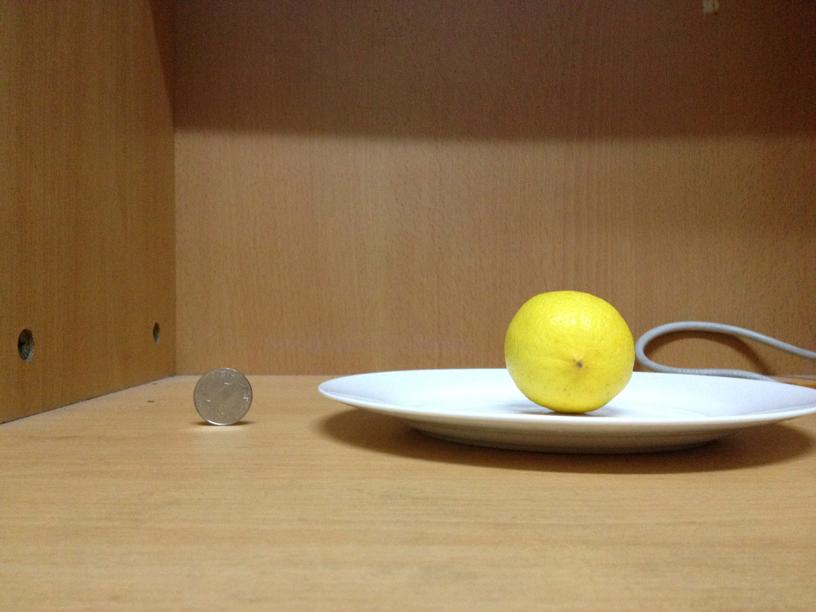coin: (192, 366, 251, 424)
lemon: (505, 287, 634, 412)
